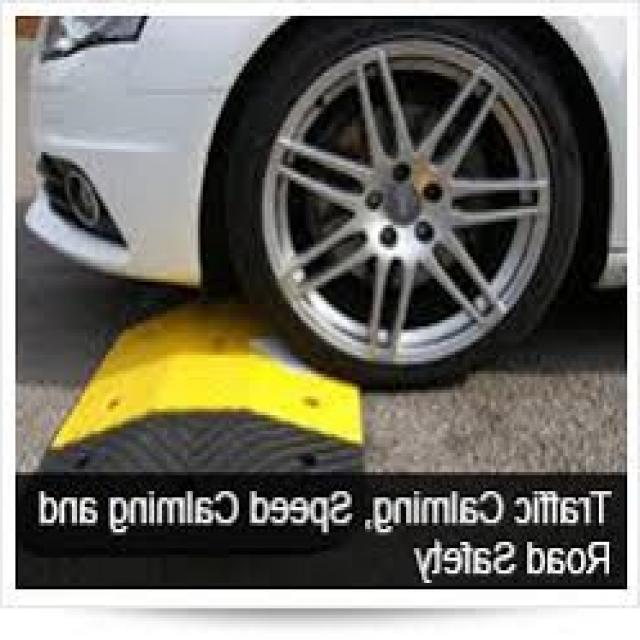speedbreaker: (42, 316, 360, 478)
